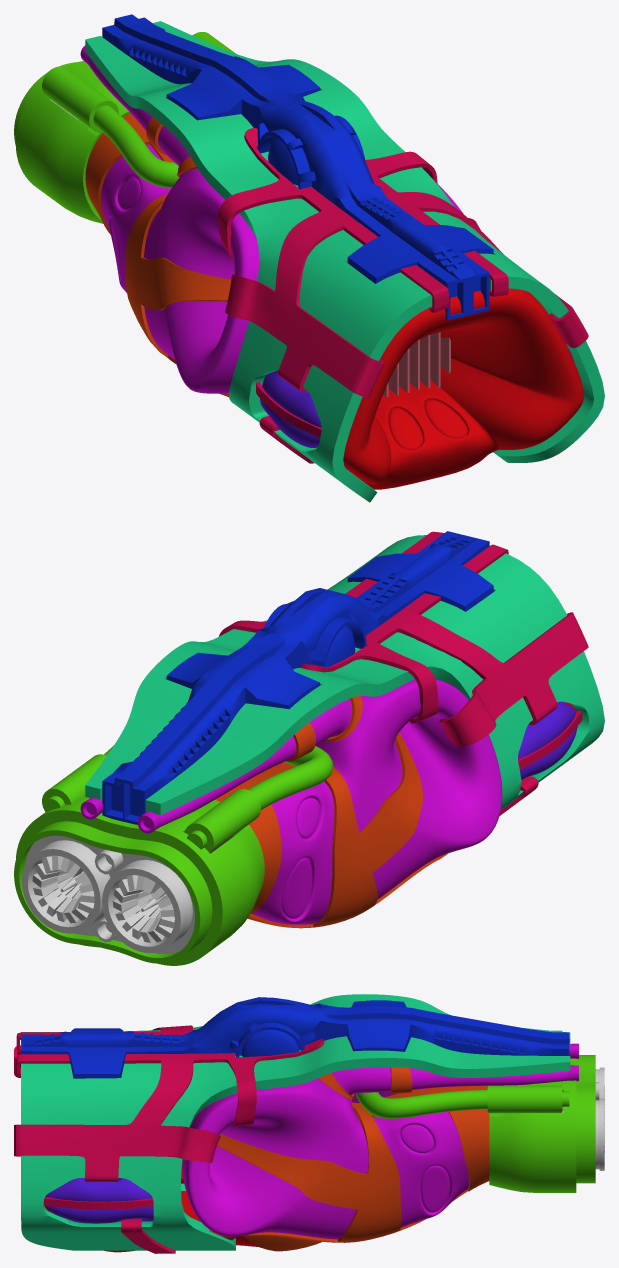
Rendered from PirateShip.dae.
3 renders of one model, top to bottom at view 1: azimuth 30°, elevation 25°; view 2: azimuth 150°, elevation 25°; view 3: azimuth 270°, elevation 25°, orthographic. The views are drawn at different scales.
Visible parts, largest first — view 1: pCylinder.001_copy_low.009 (×9); view 2: pCylinder.001_copy_low.009 (×8); view 3: pCylinder.001_copy_low.009 (×9).
Boxes of the visible parts, x1=… form: pCylinder.001_copy_low.009 (×9): x1=14, y1=14, x2=604, y2=502; pCylinder.001_copy_low.009 (×8): x1=14, y1=531, x2=604, y2=965; pCylinder.001_copy_low.009 (×9): x1=14, y1=994, x2=604, y2=1253.
Bounding box in the file's own units: 344 × 323 × 743.
